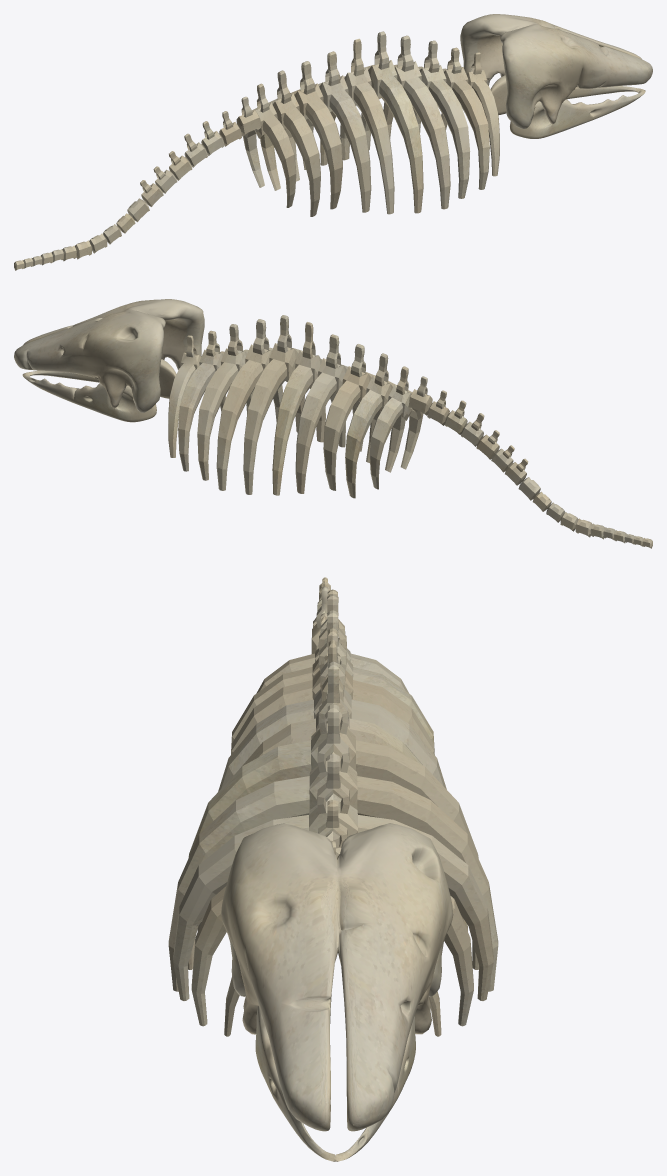
File: whalebone_텍스쳐x2.FBX
3 views of the same model, one above another, from view 1: azimuth 30°, elevation 25°; view 2: azimuth 150°, elevation 25°; view 3: azimuth 270°, elevation 25° (orthographic). The views are drawn at different scales.
Parts seen in each view (by area): view 1: Plane001, Object023, Tube001, Object024, Object022, Object019, Object021, Object025, Object020, Object018, Object026, Object027 (+7 smaller); view 2: Plane001, Object023, Object024, Tube001, Object022, Object019, Object021, Object025, Object020, Object018, Object026, Object027 (+7 smaller); view 3: Plane001, Object024, Object025, Object023, Object026, Object021, Object020, Tube001, Object019, Object022, Object018, Object027.
Boxes of the visible parts, x1,y1,x2,y2 form: Plane001: (460,14,652,128); Object023: (340,31,423,213); Tube001: (490,75,645,138); Object024: (361,35,450,209); Object022: (320,38,394,214); Object019: (260,70,320,216); Object021: (302,51,371,212); Object025: (383,40,470,198); Object020: (284,61,342,209); Object018: (243,83,296,207); Object026: (412,47,489,189); Object027: (441,52,499,176); Plane001: (14,299,204,412); Object023: (243,315,325,494); Object024: (216,319,304,490); Tube001: (22,359,176,422); Object022: (272,322,345,495); Object019: (345,353,405,498); Object021: (295,334,363,493); Object025: (197,324,283,480); Object020: (323,344,380,490); Object018: (369,366,423,489); Object026: (178,330,254,471); Object027: (168,335,226,457); Plane001: (221,823,453,1131); Object024: (168,704,498,991); Object025: (173,754,493,1000); Object023: (188,661,478,969); Object026: (191,800,473,1026); Object021: (218,628,446,791); Object020: (231,610,434,754); Tube001: (255,1006,415,1161); Object019: (231,594,434,750); Object022: (197,640,467,931); Object018: (256,589,408,693); Object027: (224,841,441,1036).
Bounding box in the file's own units: 928 × 214 × 210.
1 material, 1 textured.
